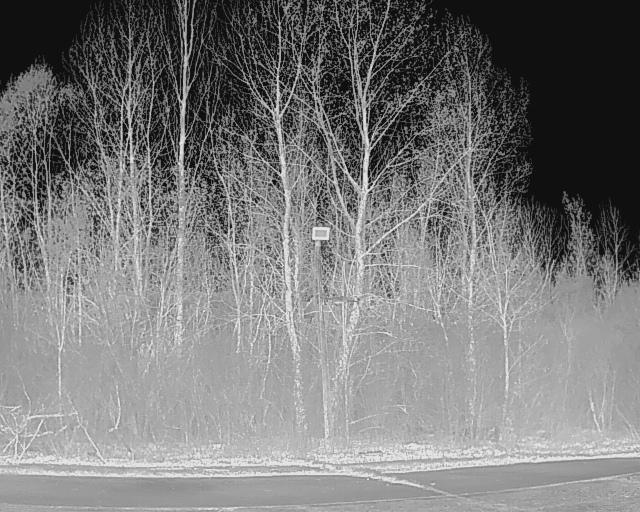drone: (300, 288, 364, 315)
